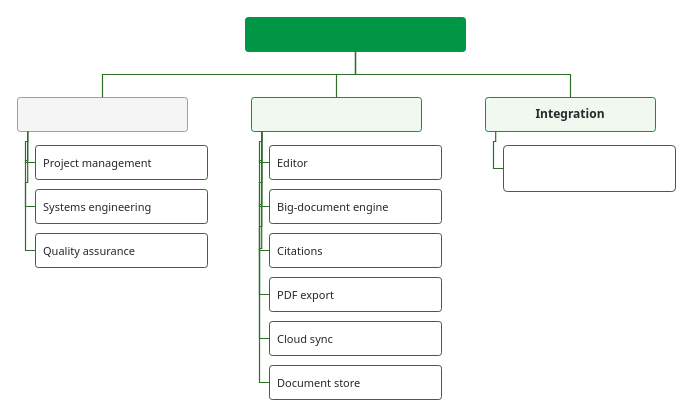
Image size: 693x417. Some labels were removed from this diagram. The shapes that lost their labels are listed below. From the top down, each one's centre as x and y in pixels, then its label:
At pixel 355 34: "Quill 1.0".
At pixel 102 114: "Enabling".
At pixel 336 114: "Product".
At pixel 589 168: "System integration and test".
